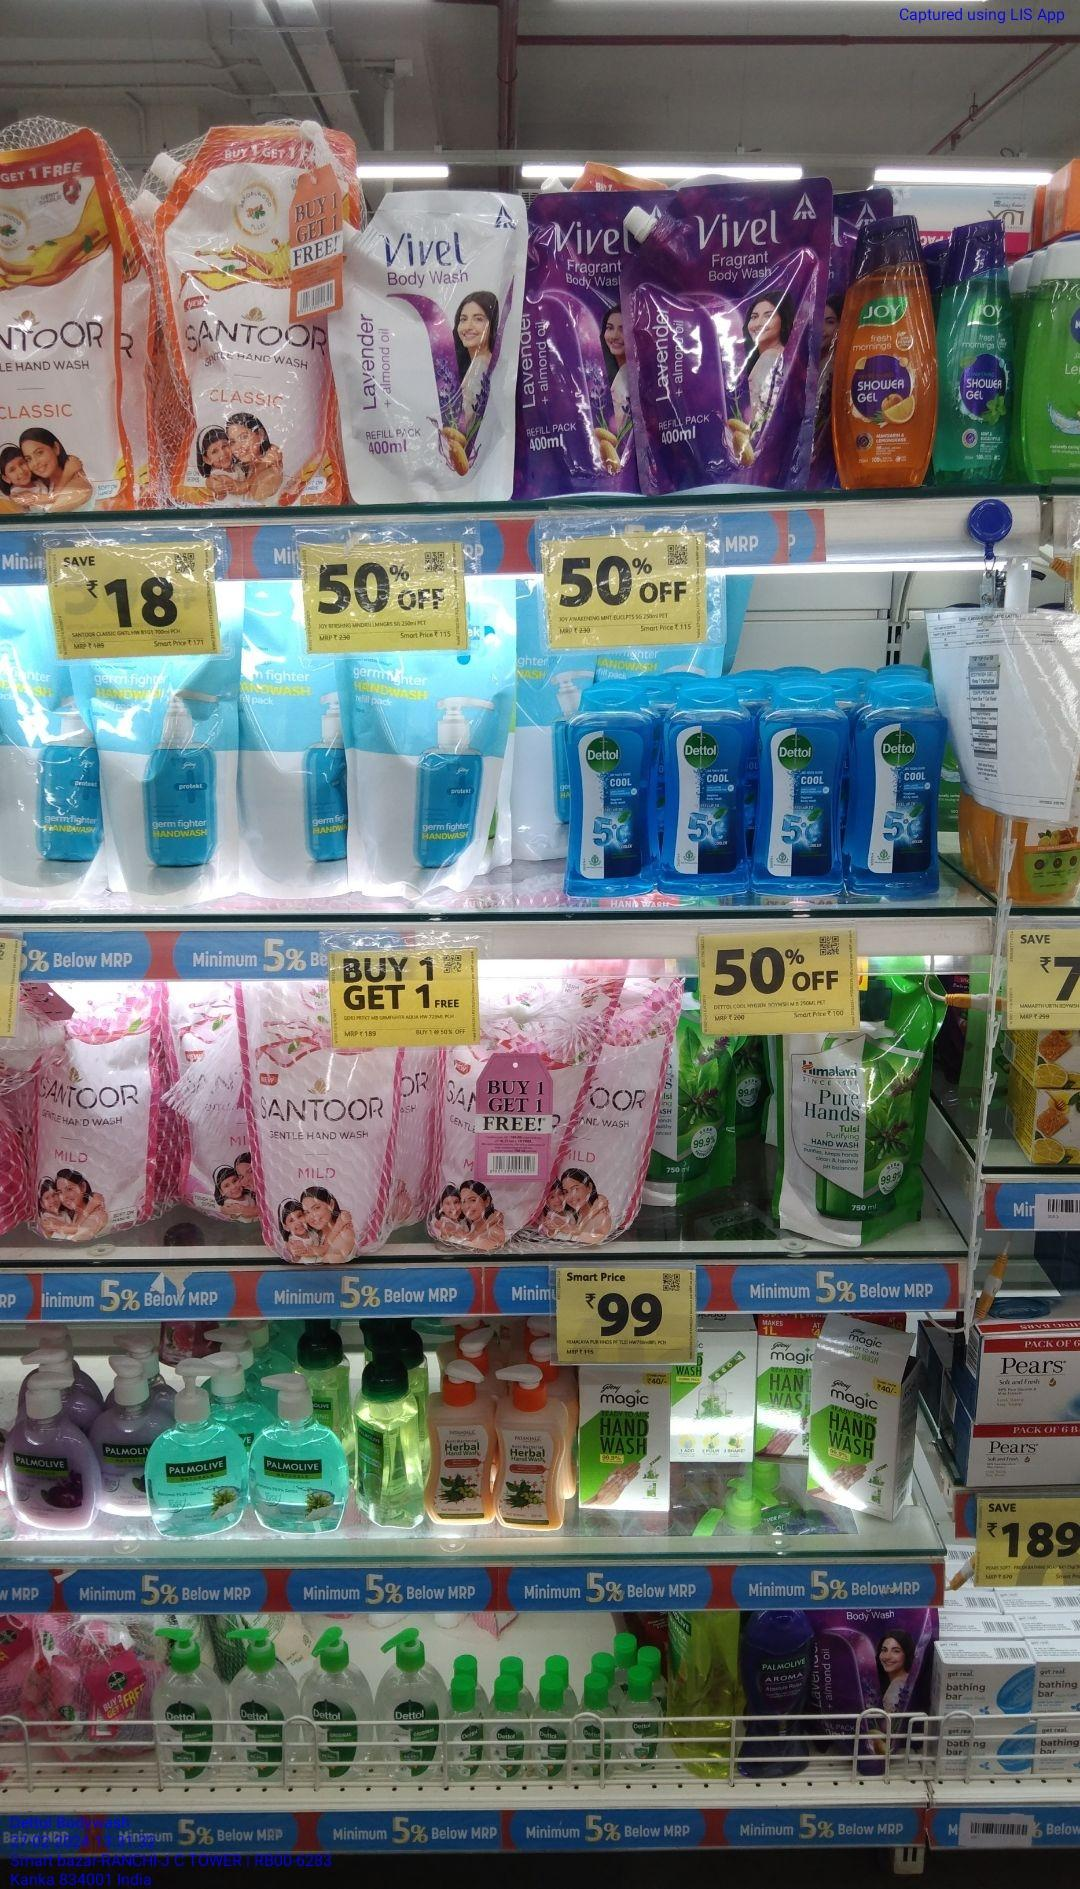Dettol_Bodywash_Cool: (852, 673, 948, 896), (661, 684, 752, 902), (566, 684, 654, 900), (762, 680, 849, 899)
Joy_Shower_Gel_Mandarin_and_Lemongrass_250ML: (839, 218, 935, 492)
Joy_Shower_Gel_Mint_and_Eucalyptus_250ML: (942, 217, 1018, 492)
